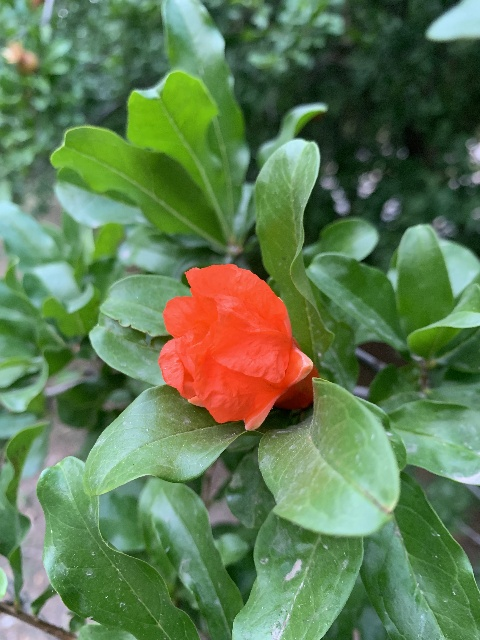early-fruit: (1, 40, 38, 76)
flower: (158, 263, 318, 430)
